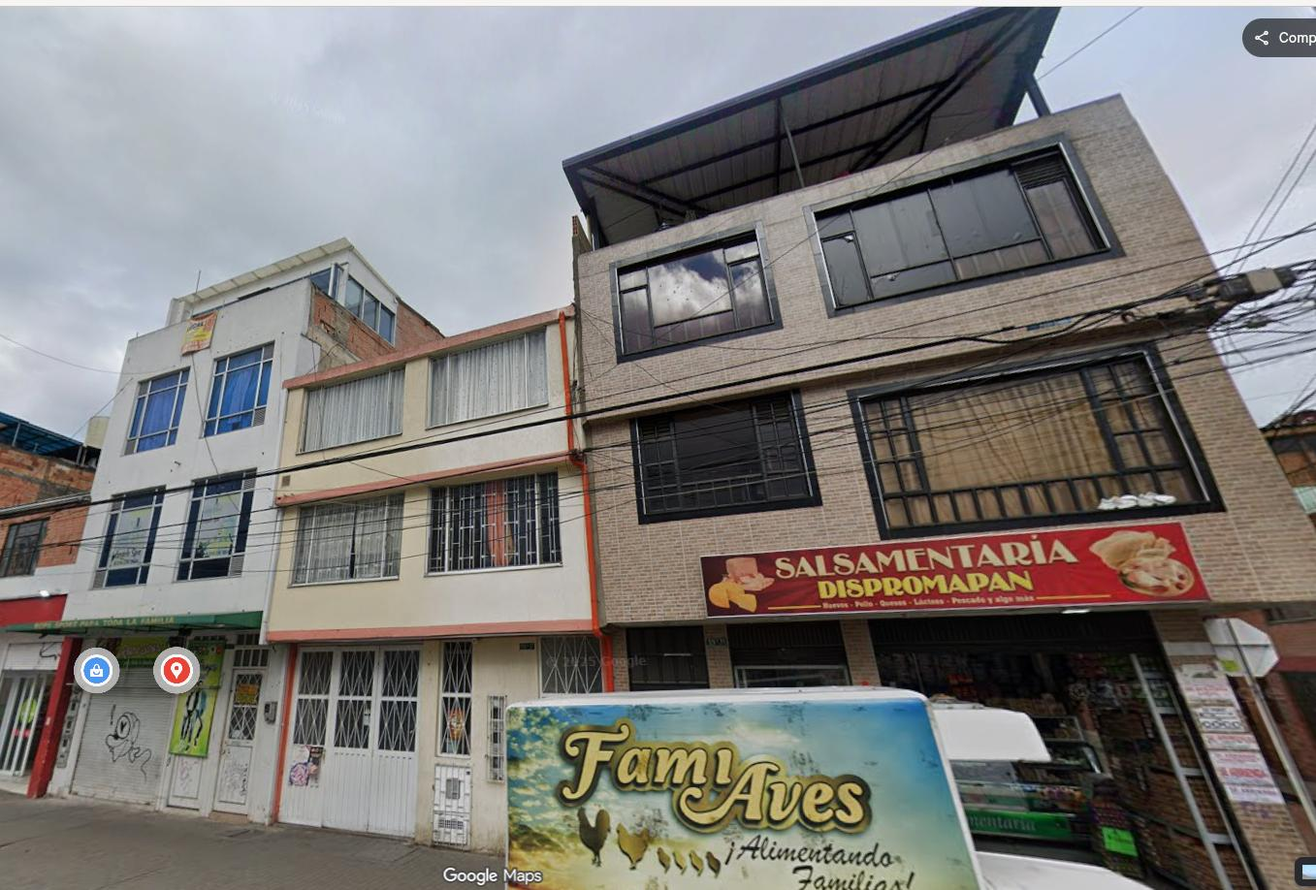casa: (565, 8, 1315, 889), (49, 239, 440, 820), (266, 306, 610, 849)
